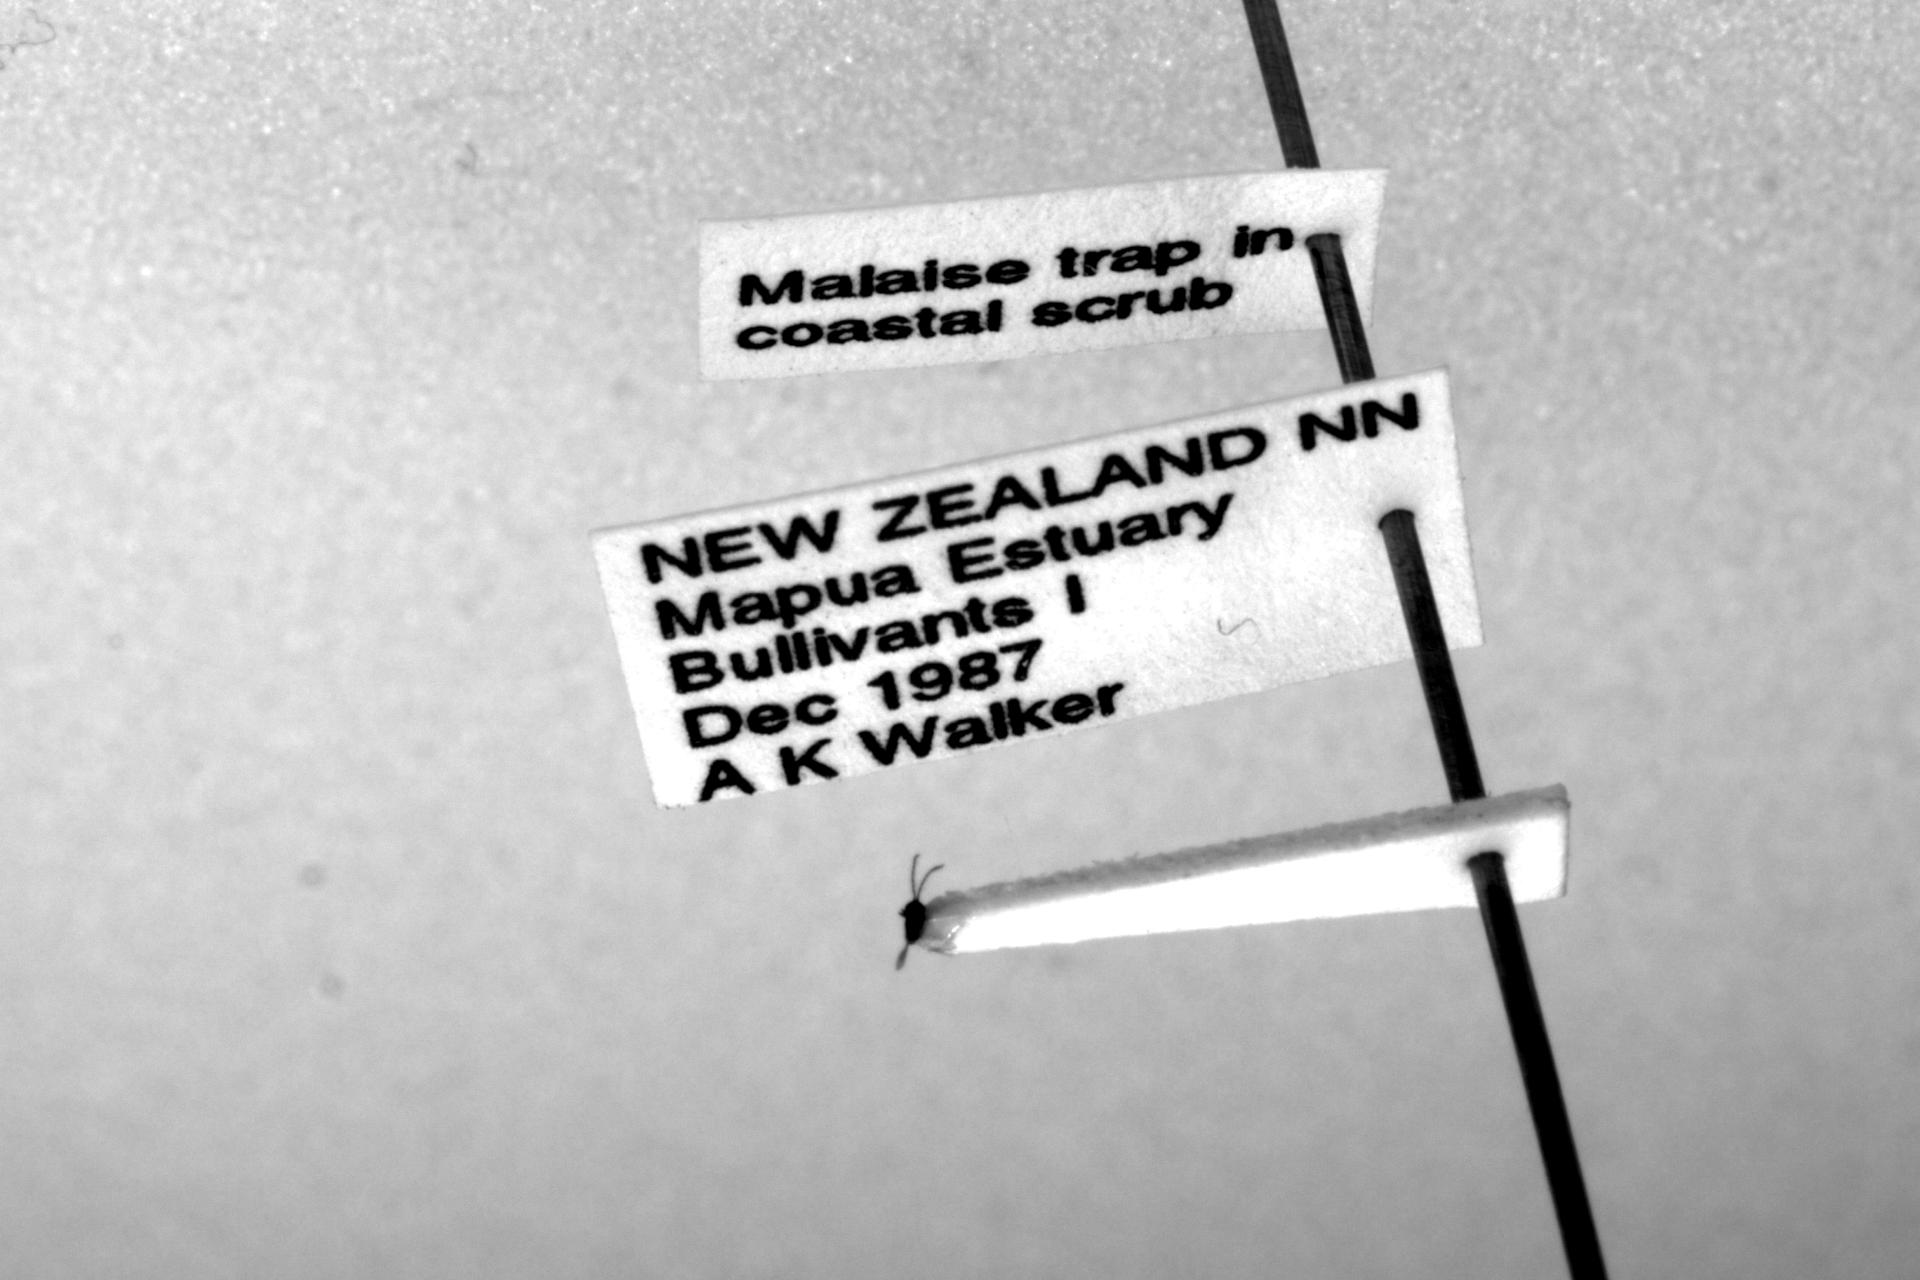typed_label: (593, 371, 1481, 806), (701, 169, 1387, 379)
